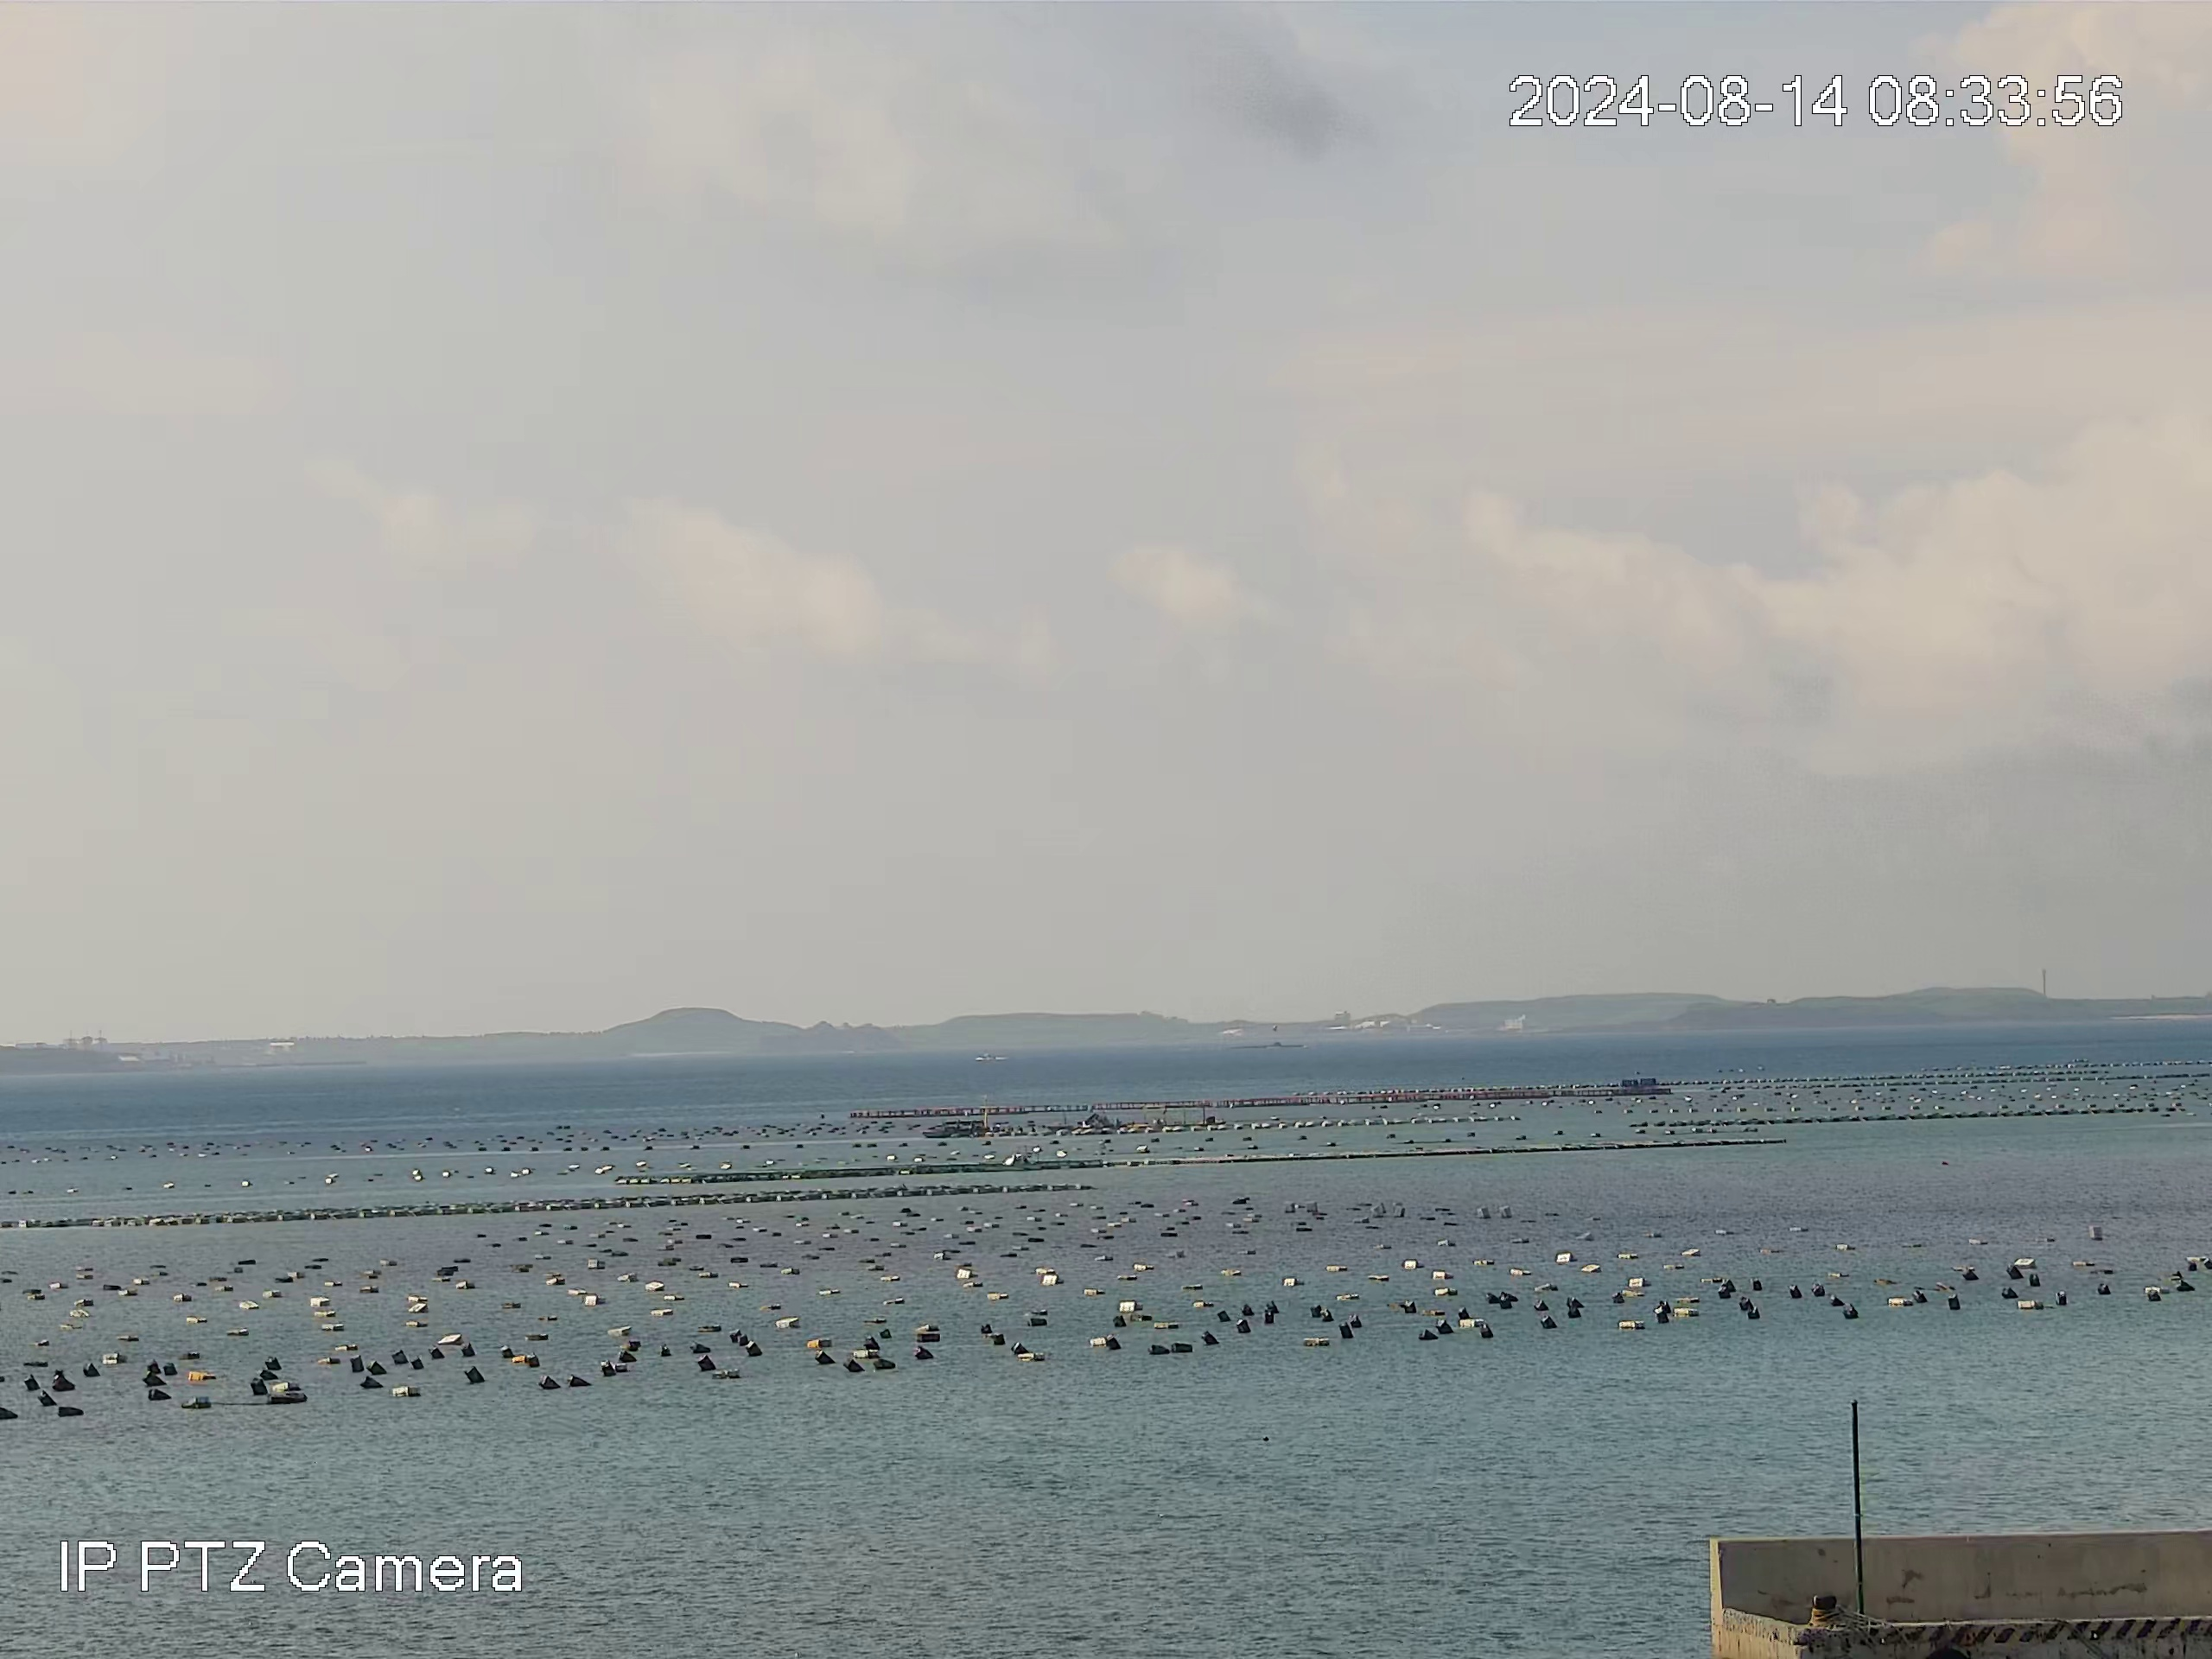boat: (928, 1117, 993, 1141)
